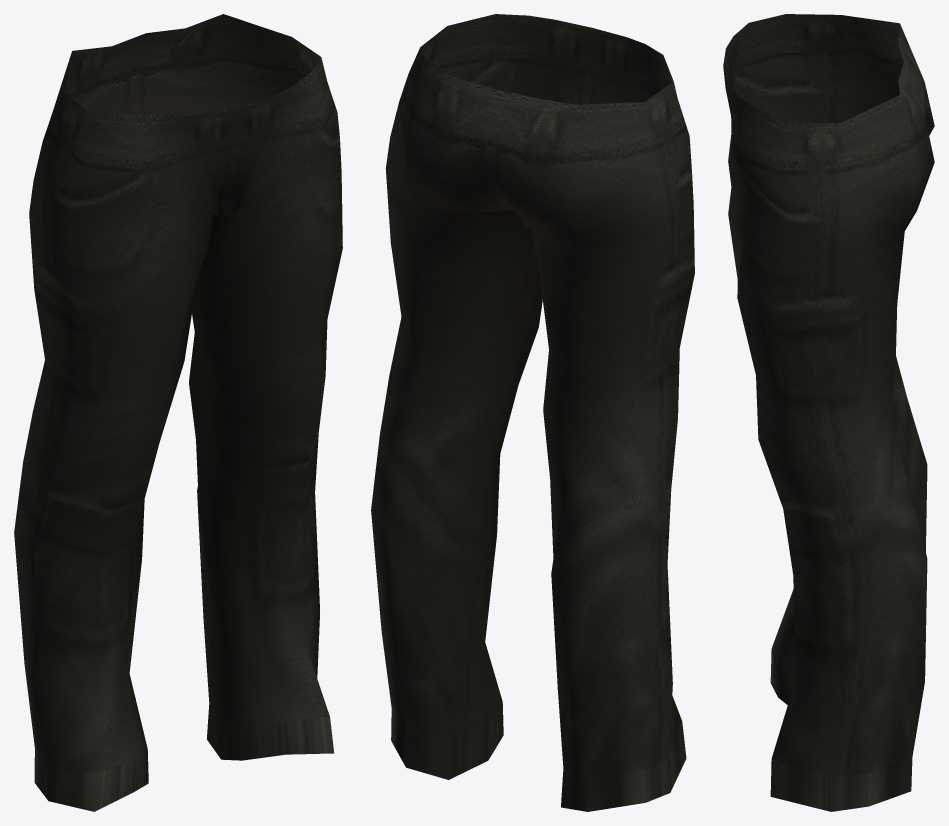
The model's file is bottom_cargo.gltf.
3 views of the same model, side by side, from view 1: azimuth 30°, elevation 25°; view 2: azimuth 150°, elevation 25°; view 3: azimuth 270°, elevation 25° (orthographic). The views are drawn at different scales.
Parts seen in each view (by area): view 1: bottom_cargo; view 2: bottom_cargo; view 3: bottom_cargo.
Boxes of the visible parts, box(x1,y1,x2,y2) form: bottom_cargo: box(14, 14, 342, 811); bottom_cargo: box(371, 14, 694, 811); bottom_cargo: box(723, 14, 934, 811).
Size of the model in its own units: 0.3878 by 0.9304 by 0.2556.
Materials: 1 (1 with a texture image).
